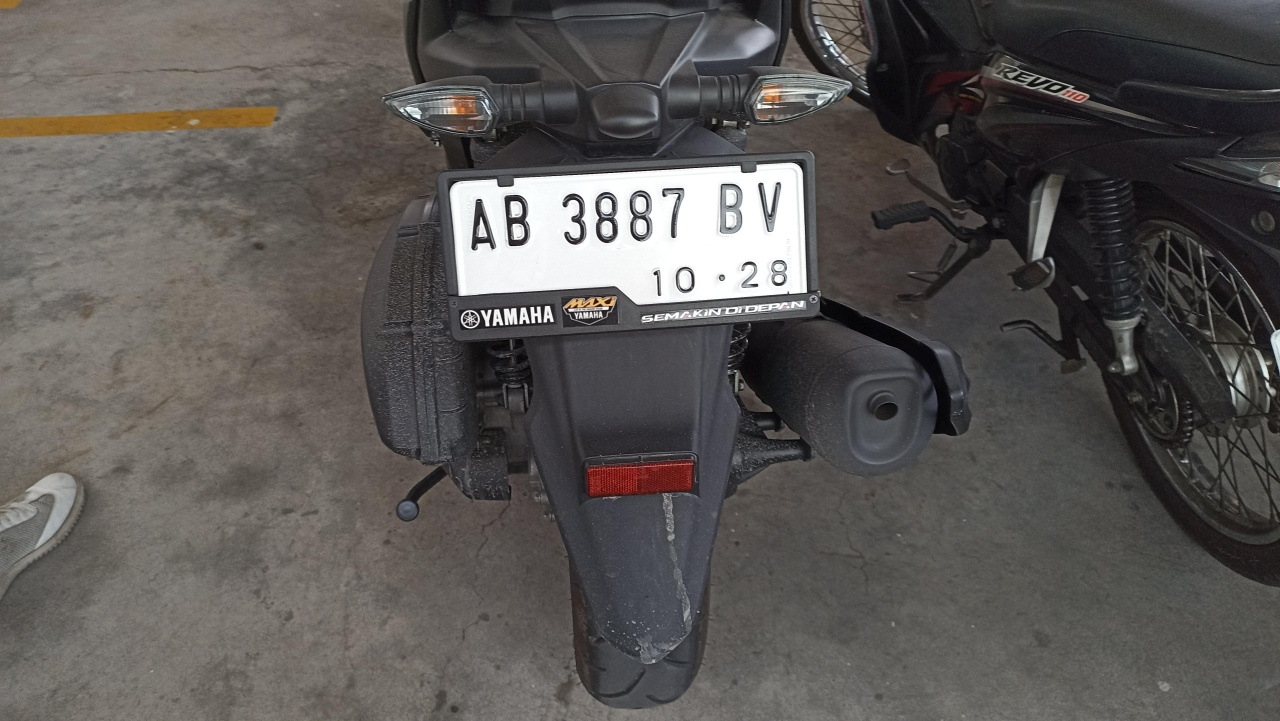plate: (441, 153, 818, 337)
